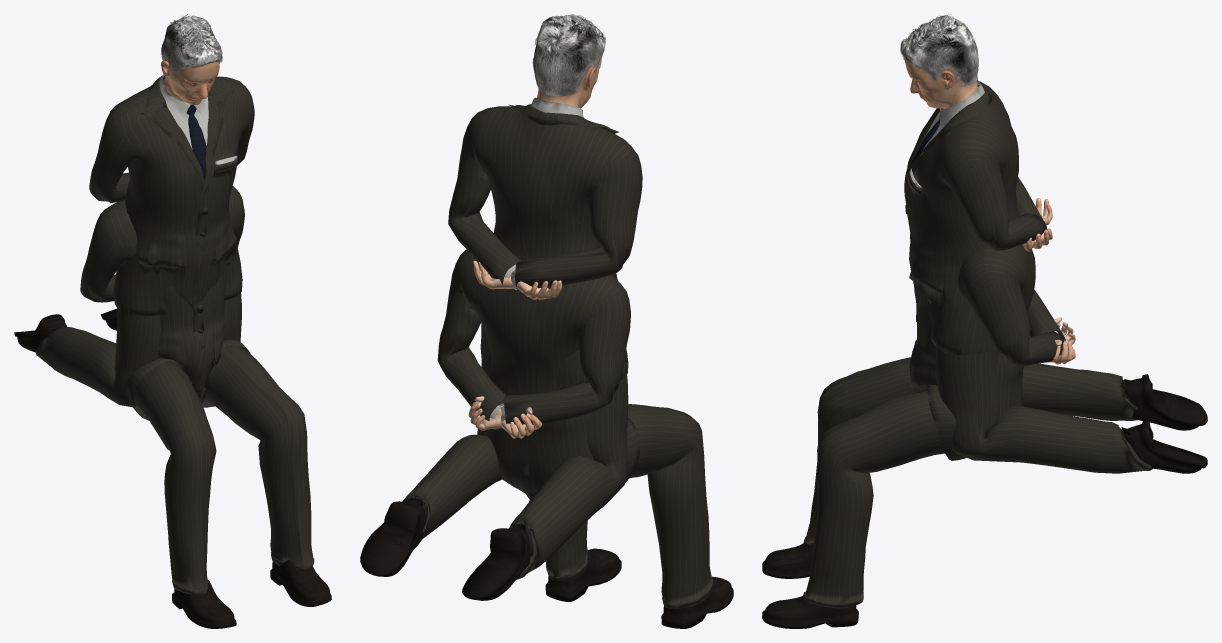
File: civ_alt_geisel.glb
3 renders of one model, left to right at view 1: azimuth 30°, elevation 25°; view 2: azimuth 150°, elevation 25°; view 3: azimuth 270°, elevation 25°, orthographic. The views are drawn at different scales.
Parts seen in each view (by area): view 1: kneel, bound_seat; view 2: kneel, bound_seat; view 3: kneel, bound_seat.
Part boxes in pixels (x1,y1,x2,y2): kneel: [14, 14, 254, 407]; bound_seat: [80, 186, 331, 628]; kneel: [360, 14, 642, 600]; bound_seat: [437, 249, 733, 628]; kneel: [900, 14, 1207, 473]; bound_seat: [762, 244, 1075, 628].
Size of the model in its own units: 0.5104 by 1.77 by 1.23.
7 materials, 7 textured.
